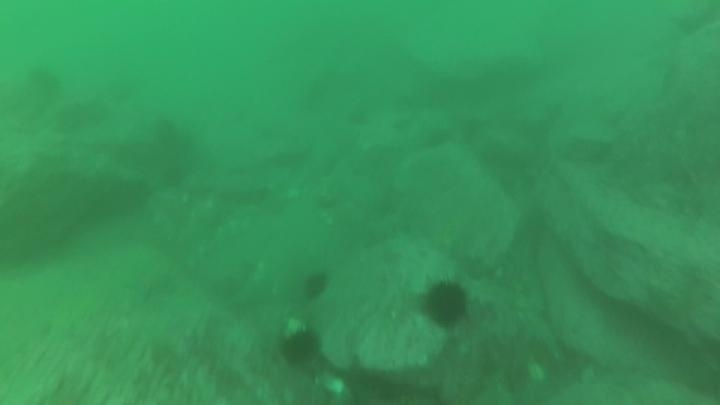echinus: (419, 276, 472, 331), (278, 325, 323, 369), (24, 63, 65, 99), (299, 268, 332, 303)
holothurian: (618, 176, 709, 220)
starfish: (123, 262, 179, 304)
